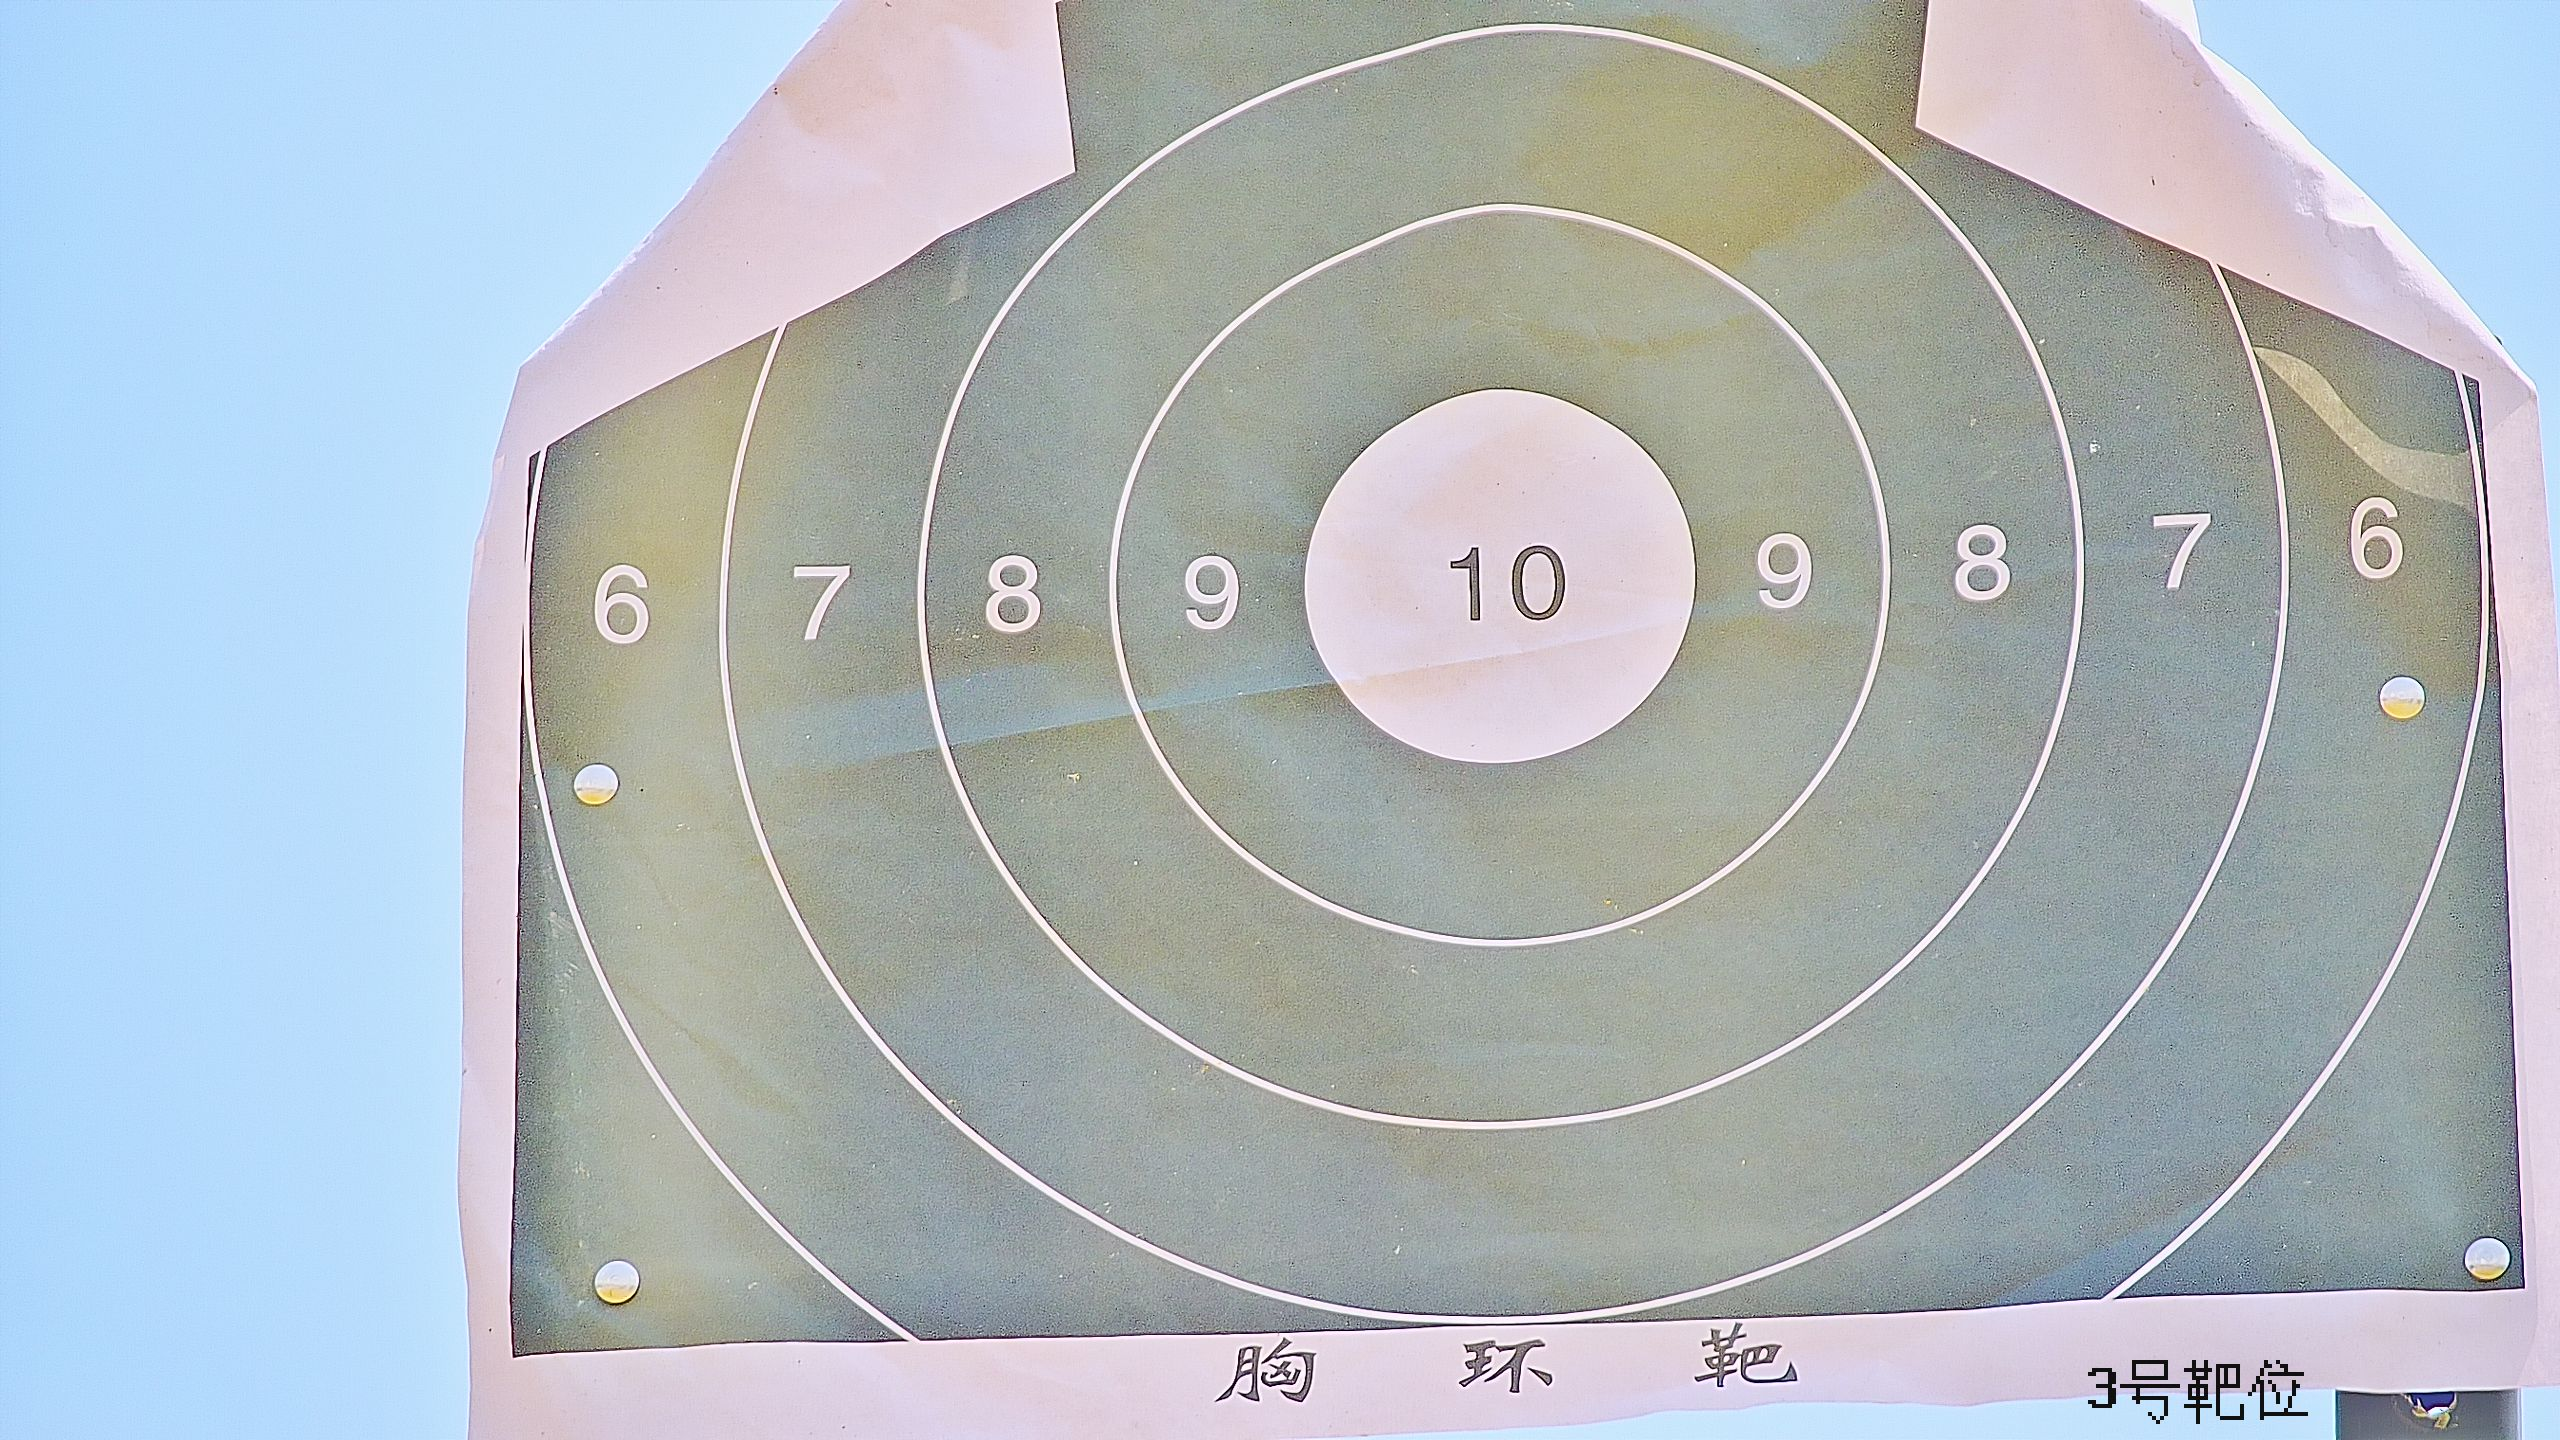target: (512, 5, 2548, 1366)
ten: (1305, 389, 1698, 767)
